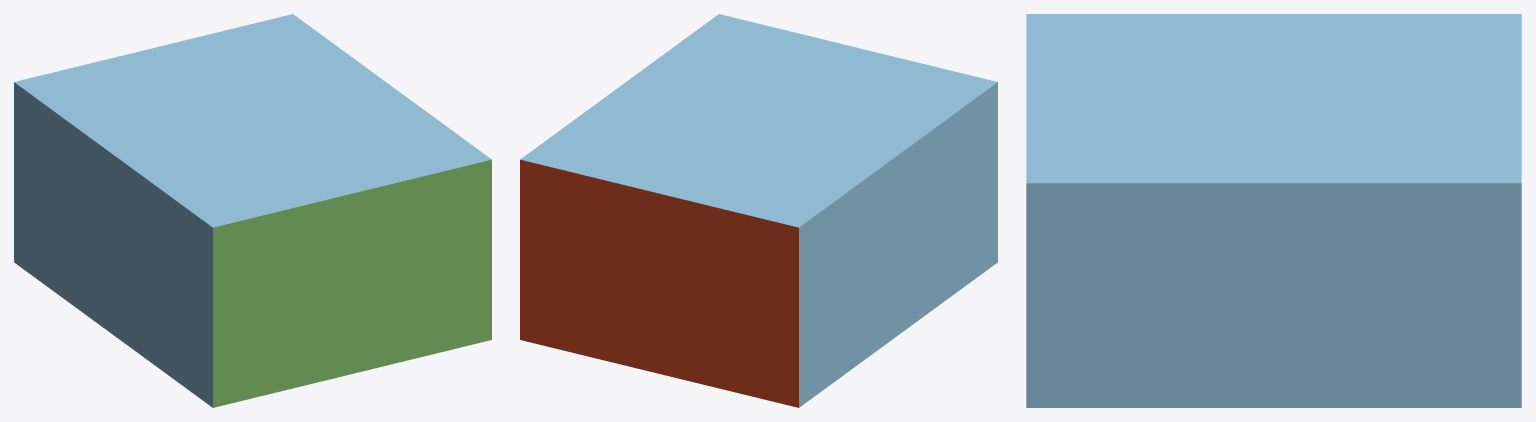
The picture shows the model from 3 angles, left to right: view 1: azimuth 30°, elevation 25°; view 2: azimuth 150°, elevation 25°; view 3: azimuth 270°, elevation 25°; orthographic projection. The views are drawn at different scales.
Parts seen in each view (by area): view 1: Part 1; view 2: Part 1; view 3: Part 1.
Part boxes in pixels (bbox=[...]): Part 1: bbox=[14, 14, 491, 407]; Part 1: bbox=[520, 14, 997, 407]; Part 1: bbox=[1026, 14, 1521, 407].
Bounding box in the file's own units: 0.8636 × 0.5334 × 1.07.
